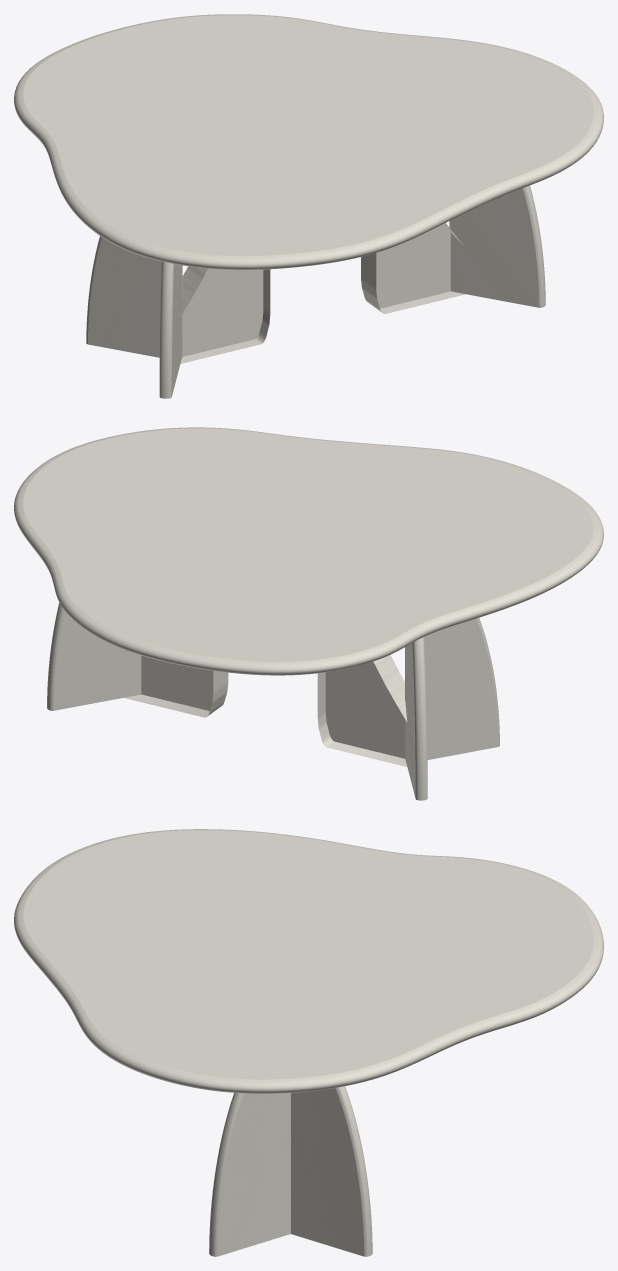
The model's file is pale_topone_round_plane.glb.
The picture shows the model from 3 angles, top to bottom: view 1: azimuth 30°, elevation 25°; view 2: azimuth 150°, elevation 25°; view 3: azimuth 270°, elevation 25°; orthographic projection. The views are drawn at different scales.
Visible parts, largest first — view 1: round_topone, plane_singleright2, plane_single1, plane_singleleft1, plane_single2, plane_singleright1; view 2: round_topone, plane_singleright1, plane_single1, plane_singleleft2, plane_single2, plane_singleleft1; view 3: round_topone, plane_singleleft2, plane_singleright2.
Boxes of the visible parts, x1=… form: round_topone: x1=14, y1=14, x2=603, y2=269; plane_singleright2: x1=449, y1=185, x2=545, y2=307; plane_single1: x1=180, y1=266, x2=270, y2=363; plane_singleleft1: x1=86, y1=236, x2=182, y2=357; plane_single2: x1=361, y1=223, x2=465, y2=313; plane_singleright1: x1=159, y1=261, x2=182, y2=398; round_topone: x1=14, y1=427, x2=603, y2=675; plane_singleright1: x1=405, y1=618, x2=499, y2=759; plane_single1: x1=317, y1=655, x2=407, y2=766; plane_singleleft2: x1=47, y1=603, x2=141, y2=710; plane_single2: x1=124, y1=650, x2=228, y2=717; plane_singleleft1: x1=405, y1=637, x2=427, y2=800; round_topone: x1=14, y1=829, x2=603, y2=1093; plane_singleleft2: x1=291, y1=1086, x2=372, y2=1256; plane_singleright2: x1=209, y1=1093, x2=290, y2=1256.
Size of the model in its own units: 6.83 by 2.49 by 6.6.
1 material, 1 textured.
